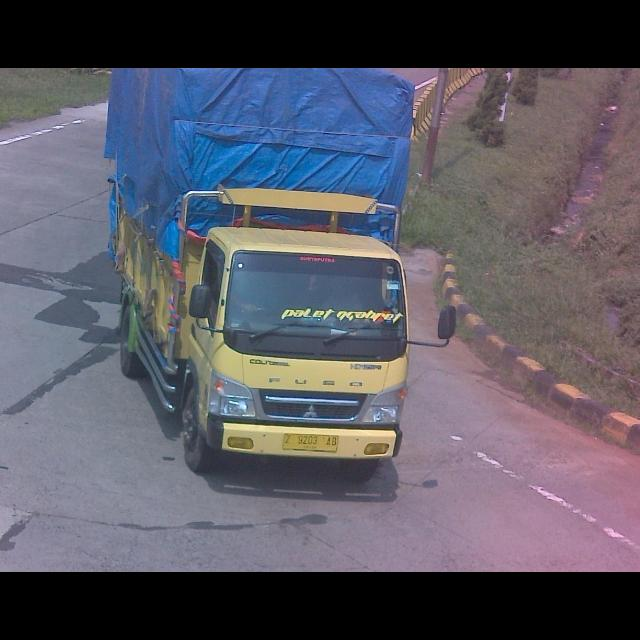plate: (283, 432, 341, 454)
